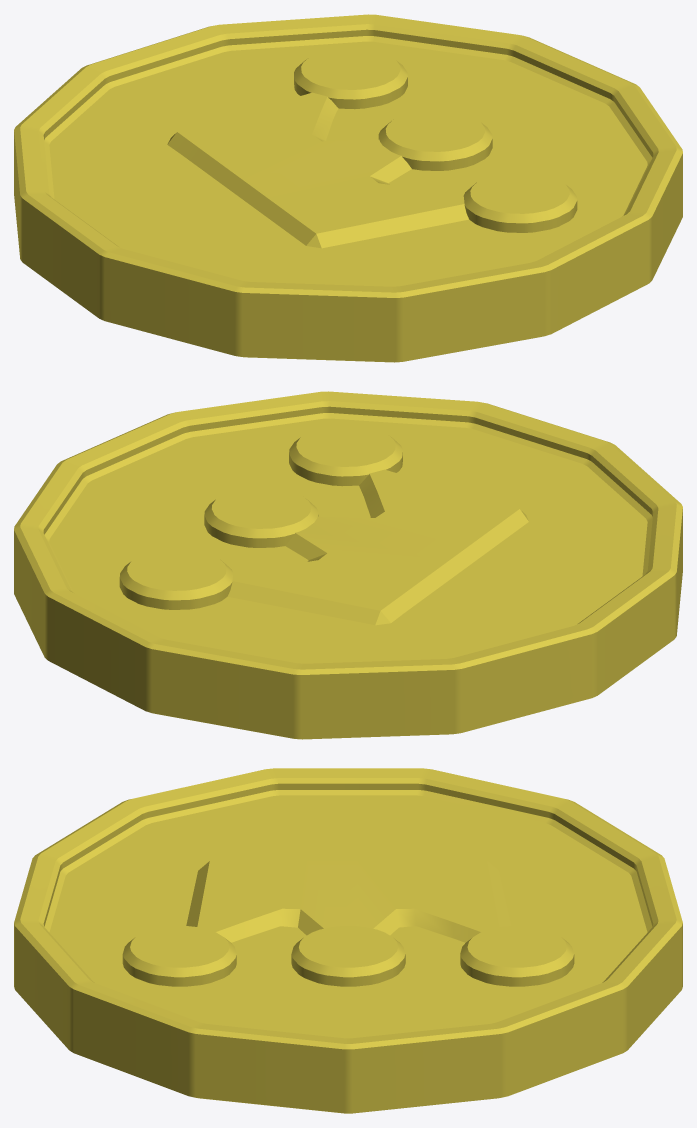
Rendered from Coin_GEO.fbx.
3 renders of one model, top to bottom at view 1: azimuth 30°, elevation 25°; view 2: azimuth 150°, elevation 25°; view 3: azimuth 270°, elevation 25°, orthographic.
Parts seen in each view (by area): view 1: Coin_GEO; view 2: Coin_GEO; view 3: Coin_GEO.
Boxes of the visible parts, <box> form: Coin_GEO: <box>14,14,682,362</box>; Coin_GEO: <box>14,391,682,739</box>; Coin_GEO: <box>14,768,682,1113</box>.
Size of the model in its own units: 1.97 by 0.232 by 1.98.
